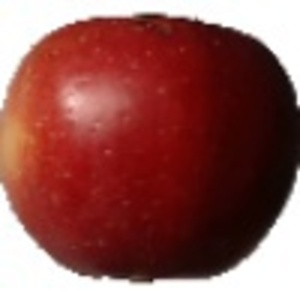maçã braeburn: (2, 14, 300, 285)
